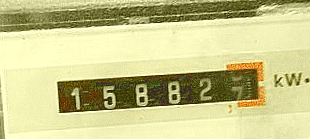1: (68, 81, 83, 111)
2: (195, 75, 214, 102)
5: (100, 81, 118, 112)
7: (229, 82, 243, 100)
8: (131, 79, 149, 108), (164, 77, 182, 105)
screen: (43, 51, 273, 125)
